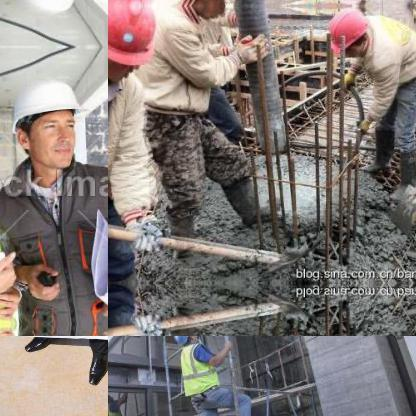Helmet: (3, 67, 88, 175), (322, 6, 376, 64), (3, 0, 91, 25), (171, 336, 200, 346), (108, 390, 120, 405)
